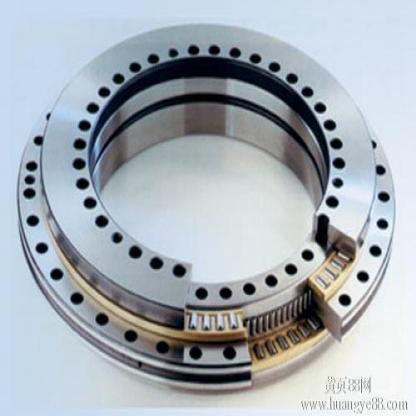FOD: (13, 16, 400, 395)
